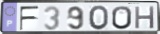3: (44, 4, 63, 32)
9: (66, 5, 85, 31)
F: (19, 5, 40, 31)
H: (134, 5, 156, 30)
O: (111, 5, 133, 31), (88, 5, 110, 31)
